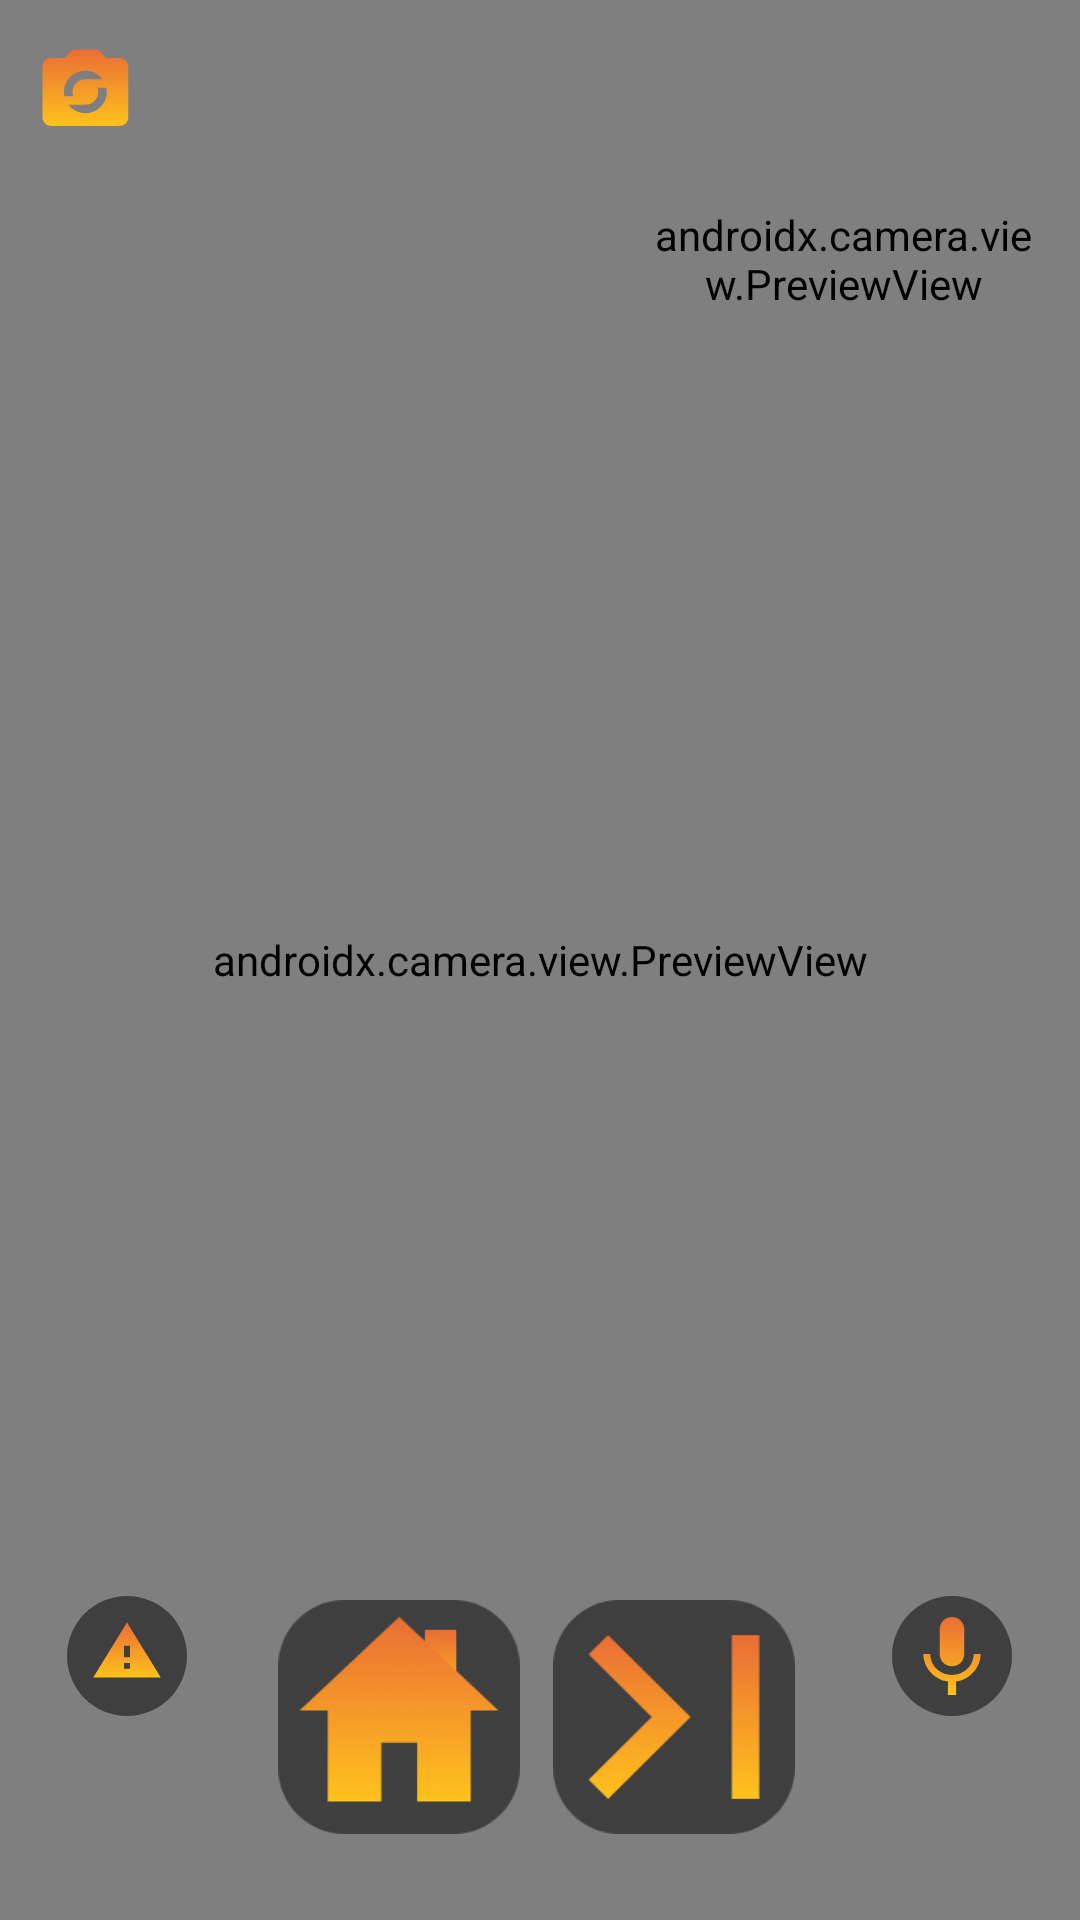

Icons on this 1080w x 1920h Android screen, each with its box as (x1, y1, x2, y2):
flip camera: (42, 49, 129, 126)
report: (67, 1596, 187, 1716)
